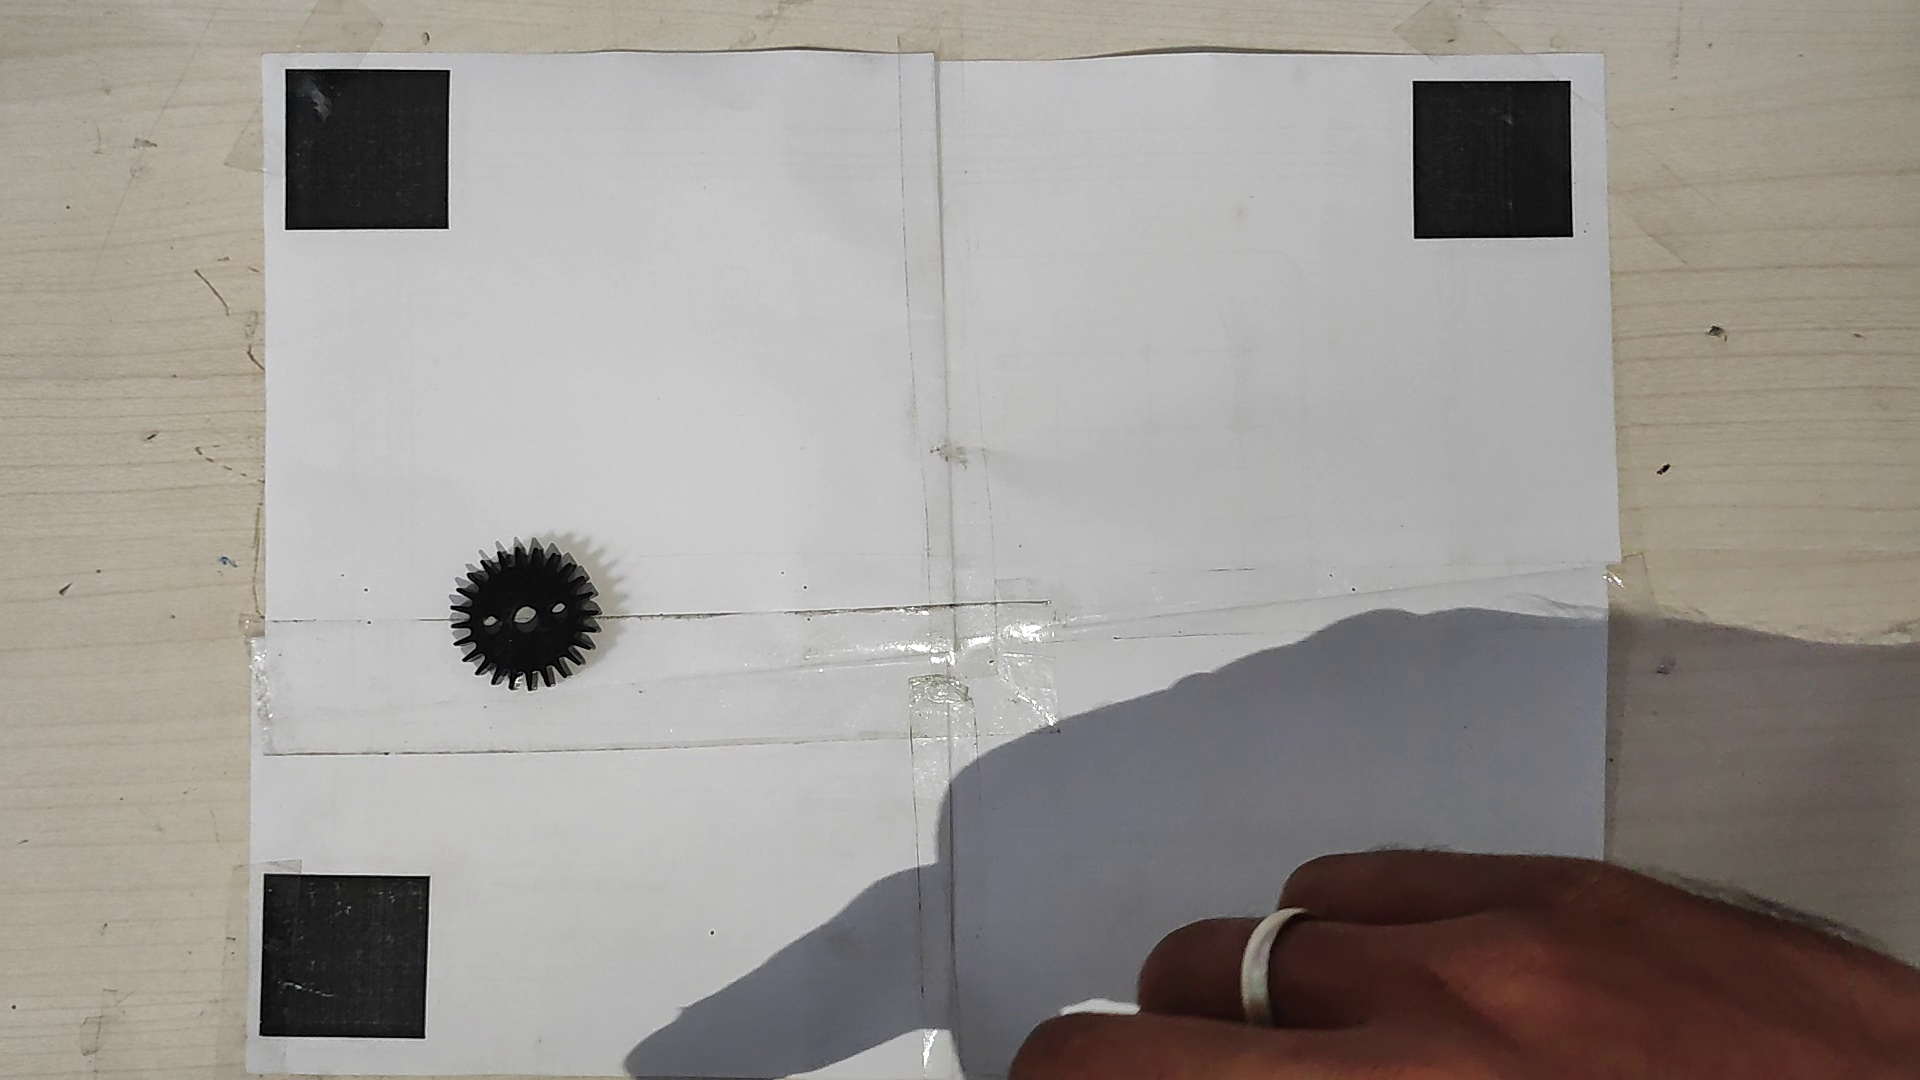Gear: (444, 542, 607, 694)
